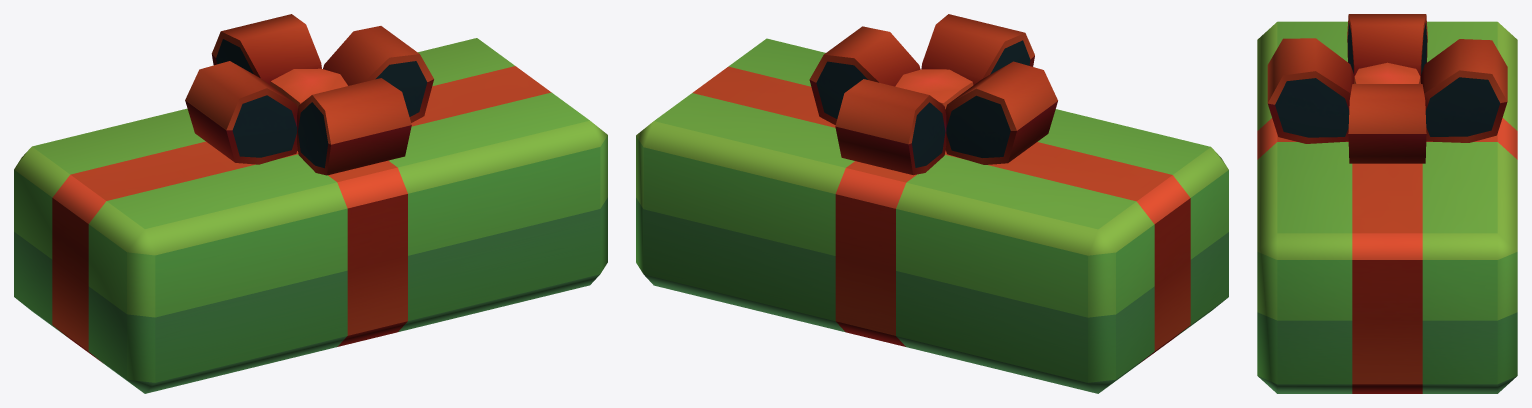
The model's file is presi_square_3_green.fbx.
3 views of the same model, side by side, from view 1: azimuth 30°, elevation 25°; view 2: azimuth 150°, elevation 25°; view 3: azimuth 270°, elevation 25° (orthographic). The views are drawn at different scales.
Visible parts, largest first — view 1: presi_square_3_green; view 2: presi_square_3_green; view 3: presi_square_3_green.
Part boxes in pixels (x1=…): presi_square_3_green: x1=14, y1=14, x2=607, y2=393; presi_square_3_green: x1=636, y1=14, x2=1228, y2=393; presi_square_3_green: x1=1257, y1=14, x2=1517, y2=393.
Bounding box in the file's own units: 156 × 74 × 75.
1 material, 1 textured.
